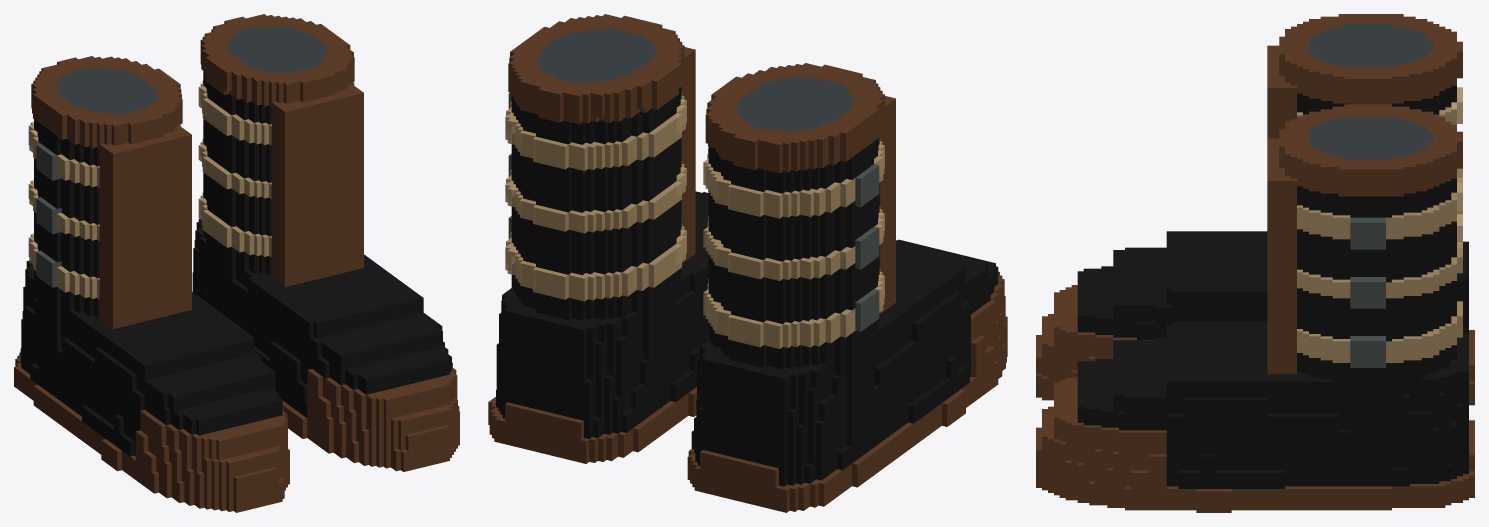
Rendered from leather_armour_boots.glb.
3 renders of one model, left to right at view 1: azimuth 30°, elevation 25°; view 2: azimuth 150°, elevation 25°; view 3: azimuth 270°, elevation 25°, orthographic. The views are drawn at different scales.
Visible parts, largest first — view 1: leather_armour_boots:compound; view 2: leather_armour_boots:compound; view 3: leather_armour_boots:compound.
Boxes of the visible parts, x1=… form: leather_armour_boots:compound: x1=14, y1=14, x2=459, y2=512; leather_armour_boots:compound: x1=488, y1=14, x2=1007, y2=512; leather_armour_boots:compound: x1=1036, y1=14, x2=1474, y2=512.
Size of the model in its own units: 0.264 by 0.252 by 0.296.
